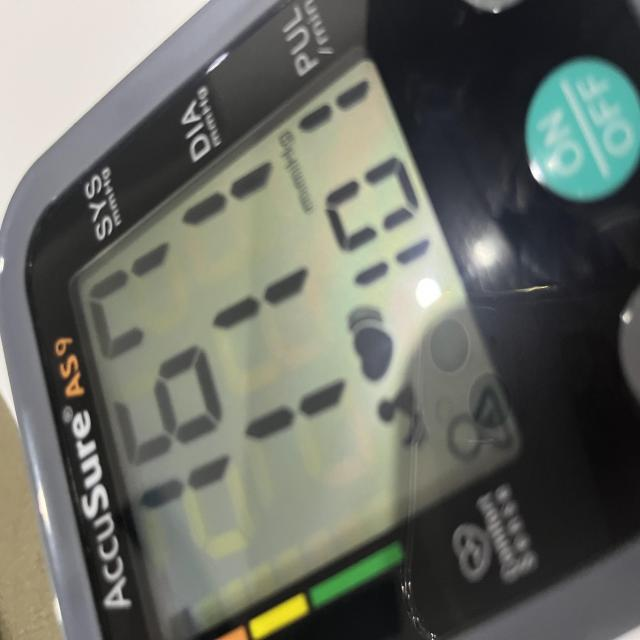bp: (0, 0, 637, 640)
